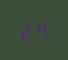four: (34, 19, 48, 39)
two: (19, 20, 33, 40)
